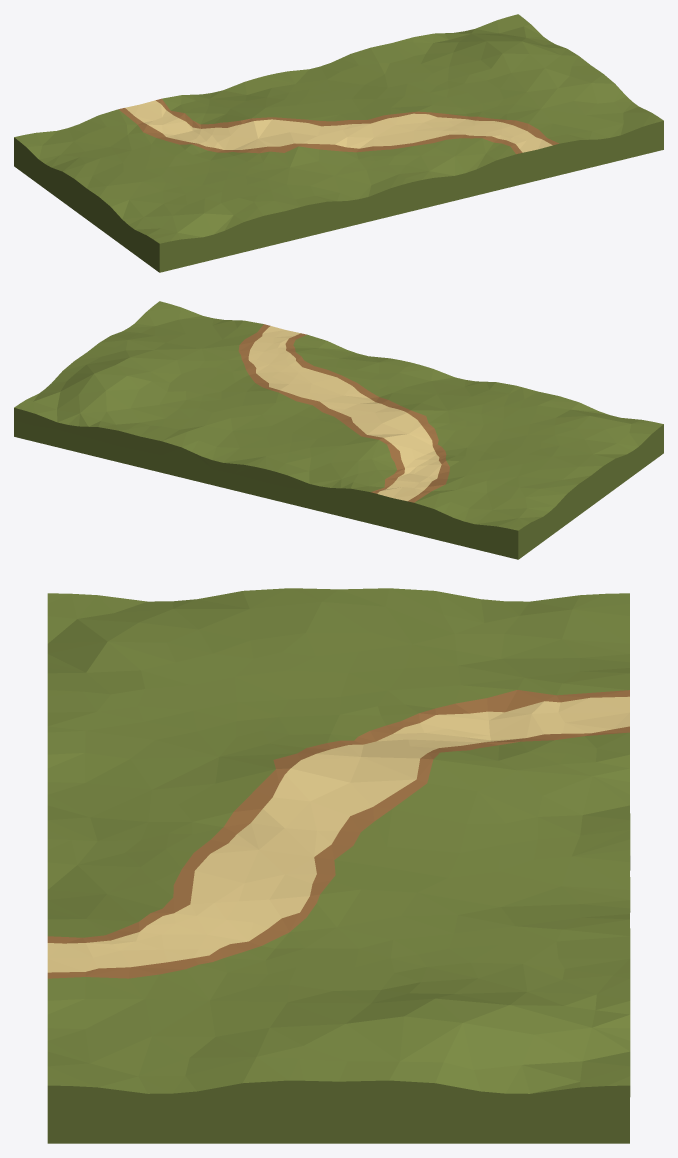
Rendered from Terrian_Road_STurn_Flat-02.fbx.
3 views of the same model, one above another, from view 1: azimuth 30°, elevation 25°; view 2: azimuth 150°, elevation 25°; view 3: azimuth 270°, elevation 25° (orthographic). The views are drawn at different scales.
Parts seen in each view (by area): view 1: Terrian_Road_STurn_Flat-02; view 2: Terrian_Road_STurn_Flat-02; view 3: Terrian_Road_STurn_Flat-02.
Part boxes in pixels (<box>): Terrian_Road_STurn_Flat-02: <box>14,14,663,272</box>; Terrian_Road_STurn_Flat-02: <box>14,301,663,559</box>; Terrian_Road_STurn_Flat-02: <box>47,588,630,1143</box>.
Size of the model in its own units: 7200 by 570 by 3600.
Materials: 1 (1 with a texture image).
